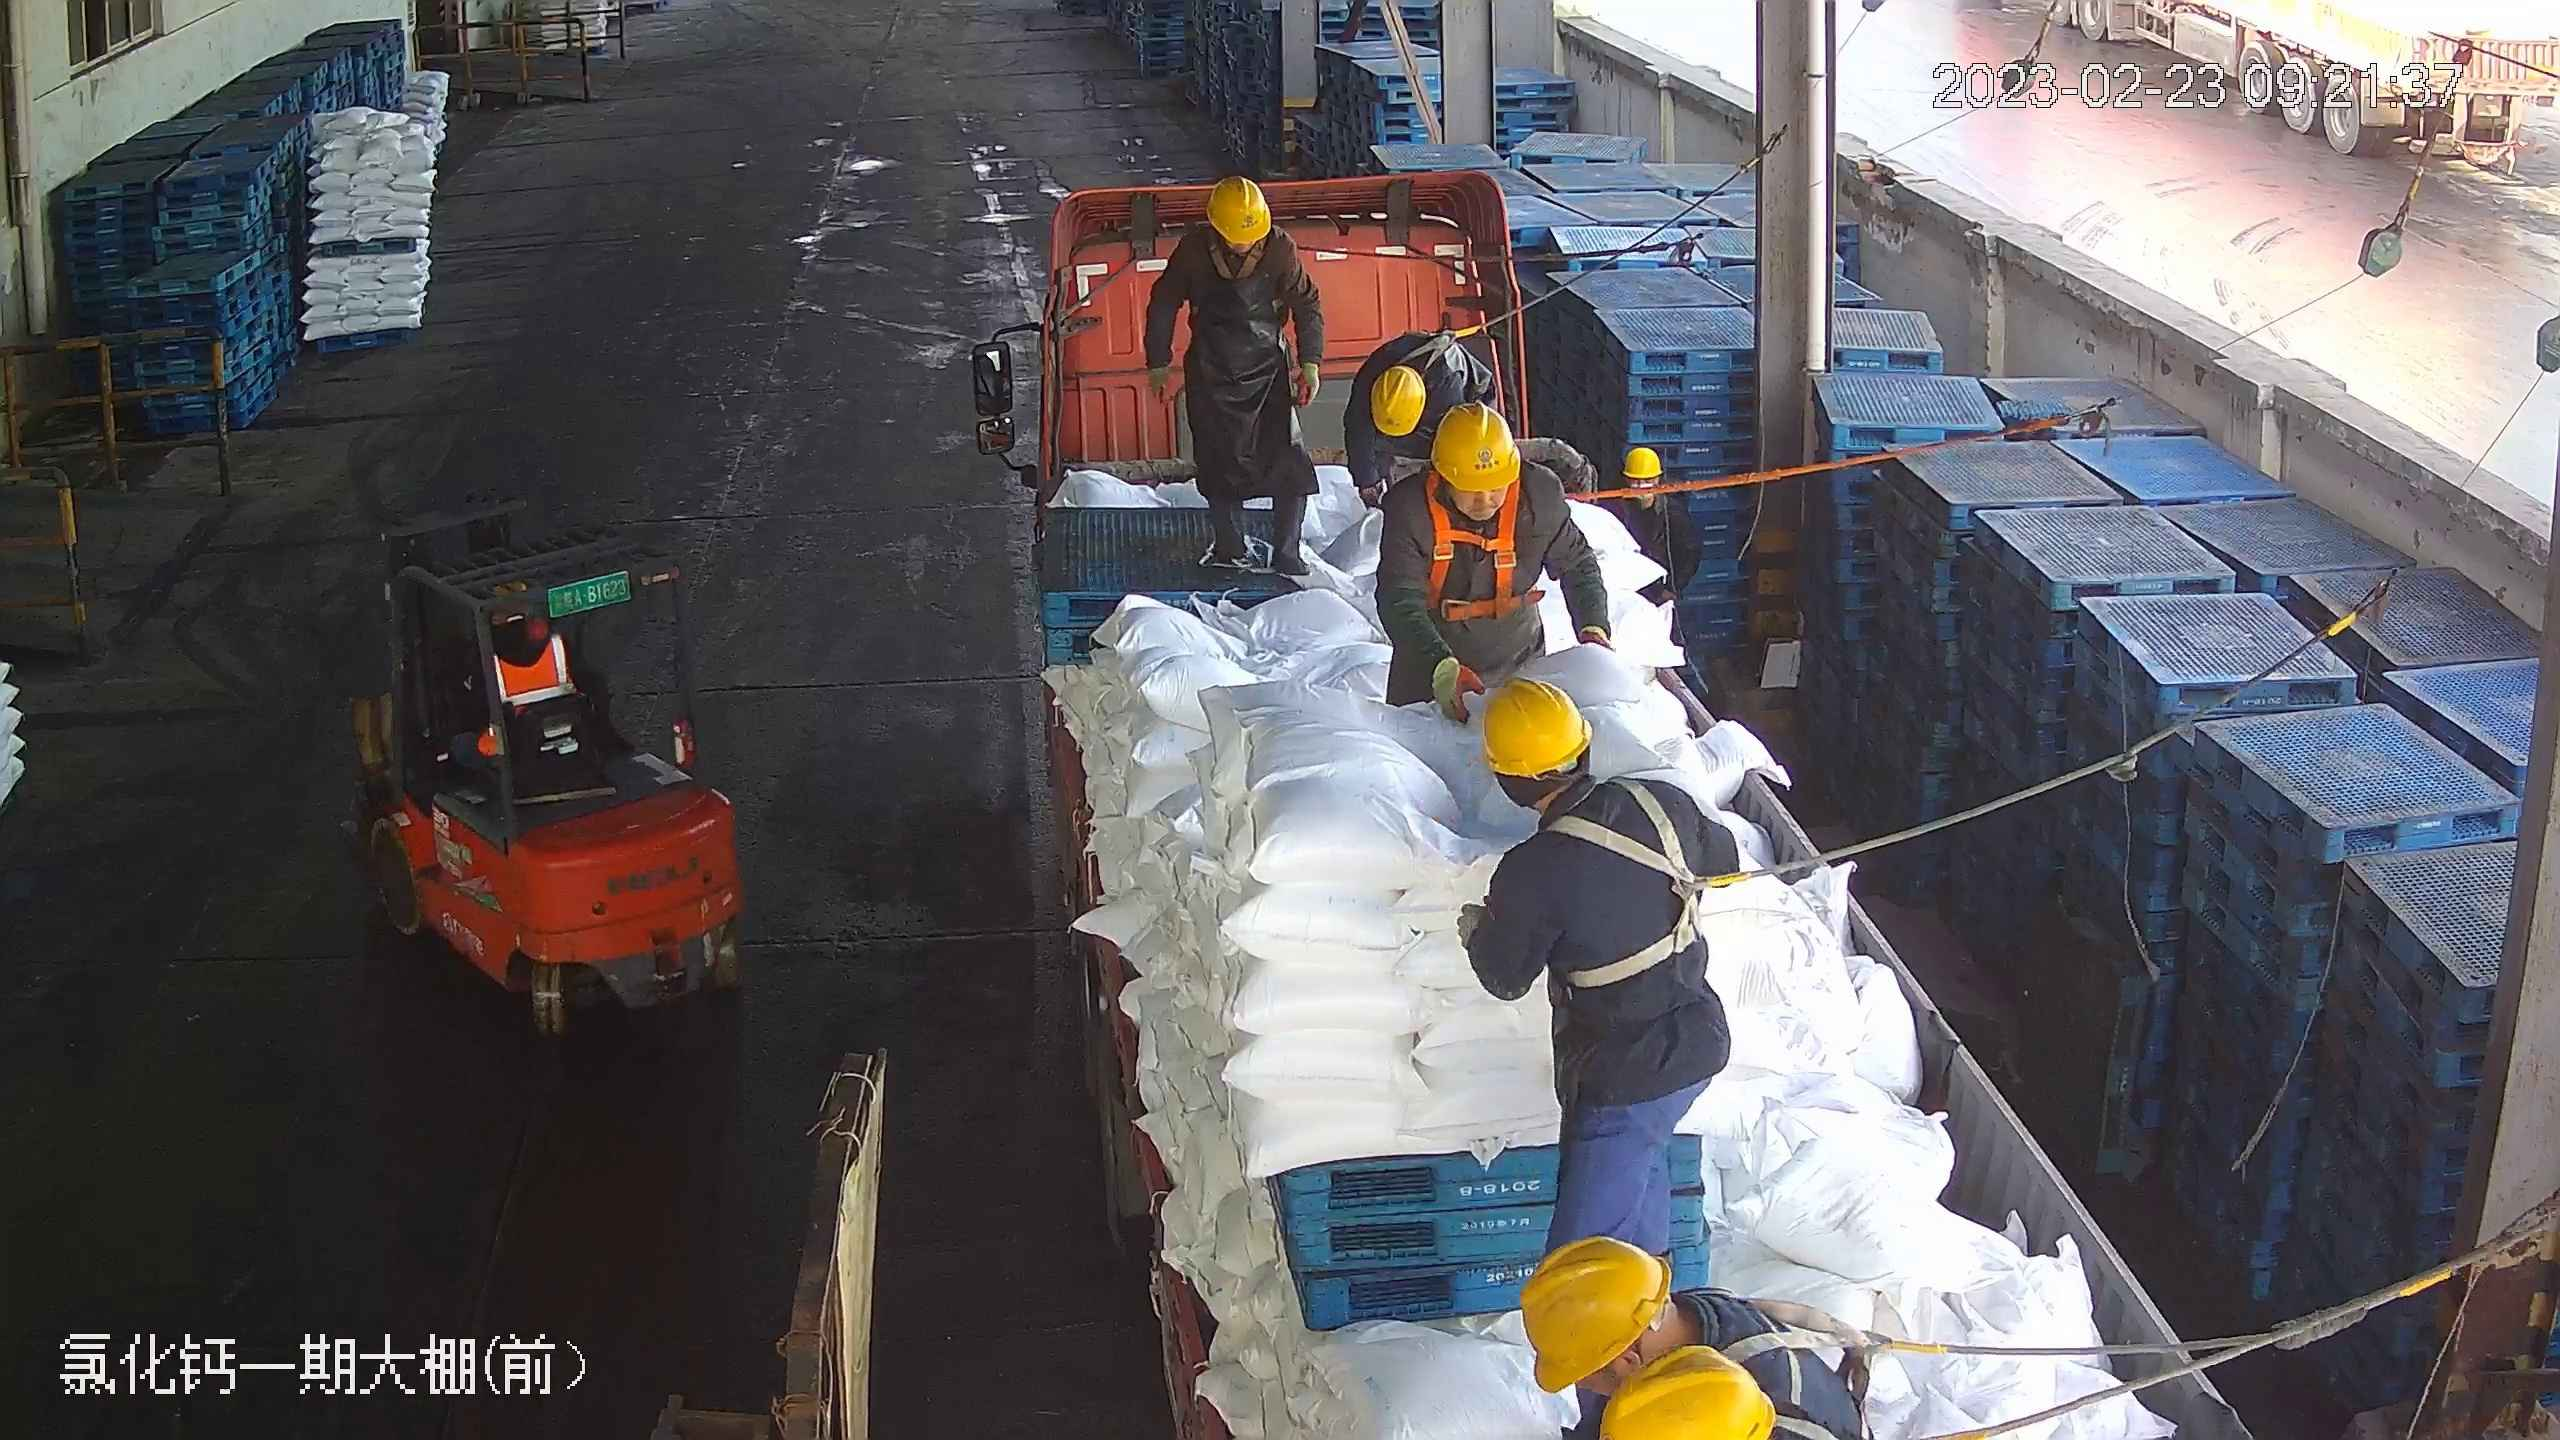belt: (1553, 776, 1723, 995), (1410, 472, 1552, 636), (1707, 1288, 1896, 1406), (1201, 232, 1272, 280), (1401, 321, 1461, 368)
head: (1473, 680, 1719, 891), (1374, 402, 1585, 566), (1150, 173, 1319, 323), (1350, 354, 1448, 436), (1611, 445, 1693, 530)
helmet: (1522, 1245, 1686, 1407), (1612, 1349, 1766, 1440), (1476, 674, 1600, 777), (1429, 399, 1523, 492), (1204, 172, 1276, 243), (1367, 366, 1428, 437), (1618, 443, 1664, 480)
people: (1468, 673, 1734, 1244), (1145, 179, 1324, 580)
truck: (966, 171, 2271, 1430)
